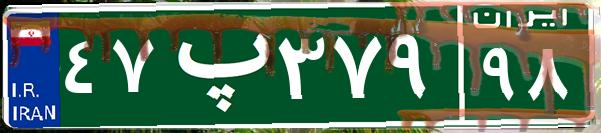3: (273, 28, 330, 110)
4: (57, 26, 110, 107)
7: (330, 28, 385, 110), (110, 28, 158, 105)
8: (525, 38, 570, 115)
9: (385, 28, 445, 110), (475, 38, 525, 113)
پ: (158, 15, 273, 115)
